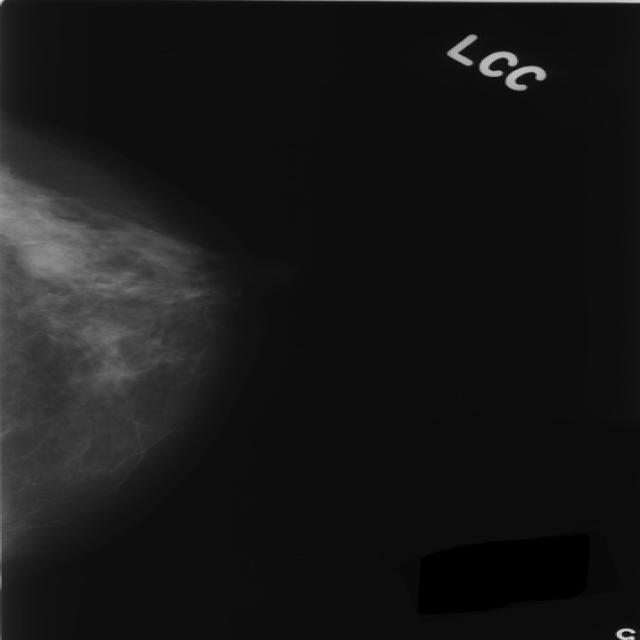tumour: (14, 240, 84, 275)
